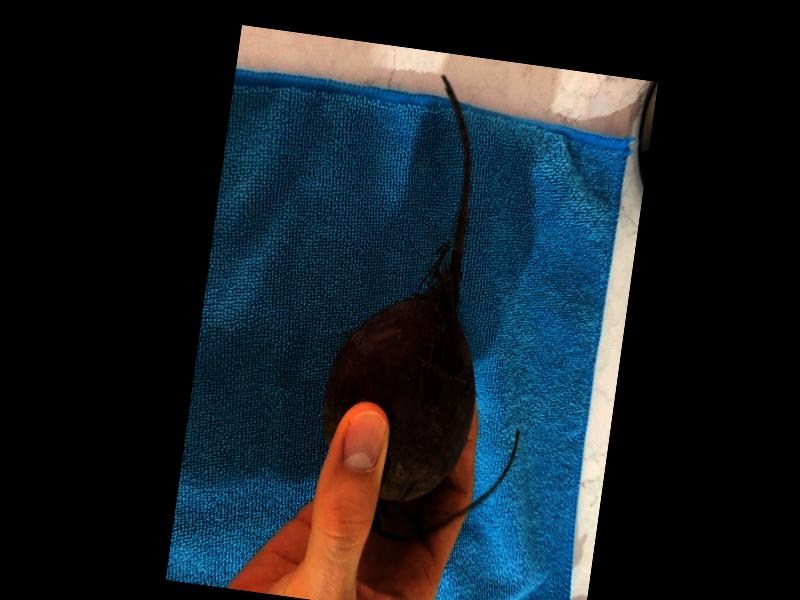Beet: (305, 63, 565, 554)
